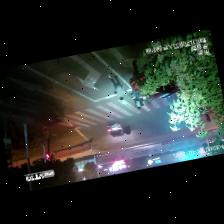person: (109, 74, 124, 99), (125, 89, 144, 108)
